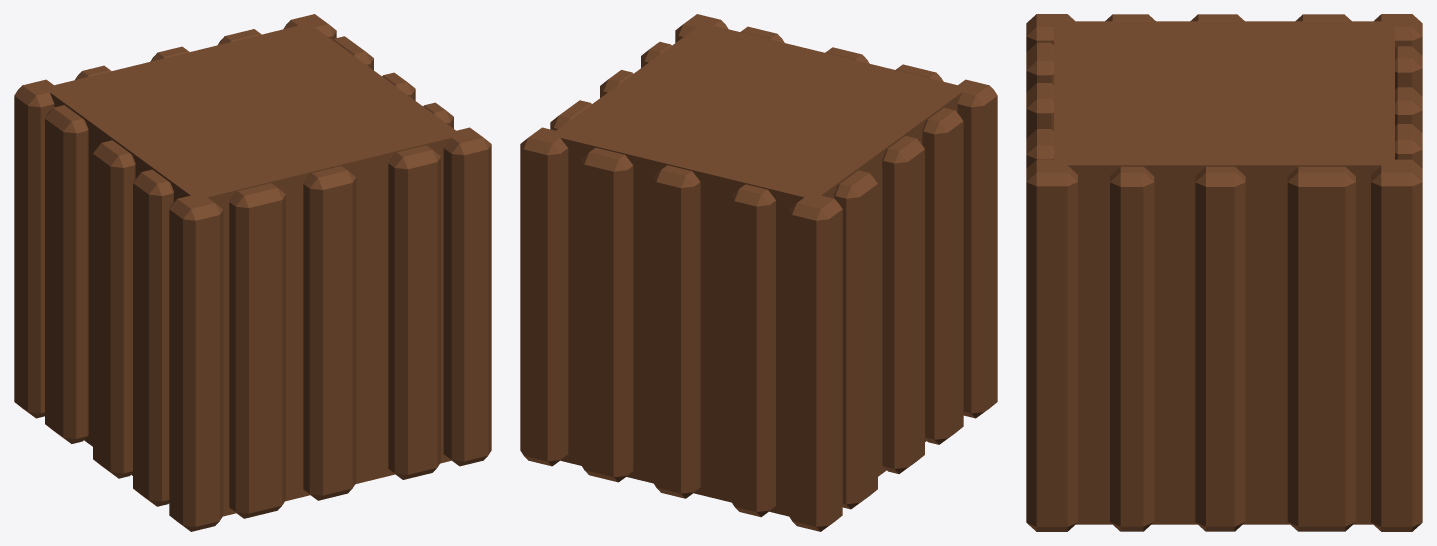
Rendered from BarkBlock.fbx.
3 renders of one model, left to right at view 1: azimuth 30°, elevation 25°; view 2: azimuth 150°, elevation 25°; view 3: azimuth 270°, elevation 25°, orthographic. The views are drawn at different scales.
Parts seen in each view (by area): view 1: BarkBlock; view 2: BarkBlock; view 3: BarkBlock.
Part boxes in pixels (x1=…): BarkBlock: x1=14, y1=14, x2=491, y2=531; BarkBlock: x1=520, y1=14, x2=997, y2=531; BarkBlock: x1=1026, y1=14, x2=1422, y2=531.
Size of the model in its own units: 3 by 3 by 3.
